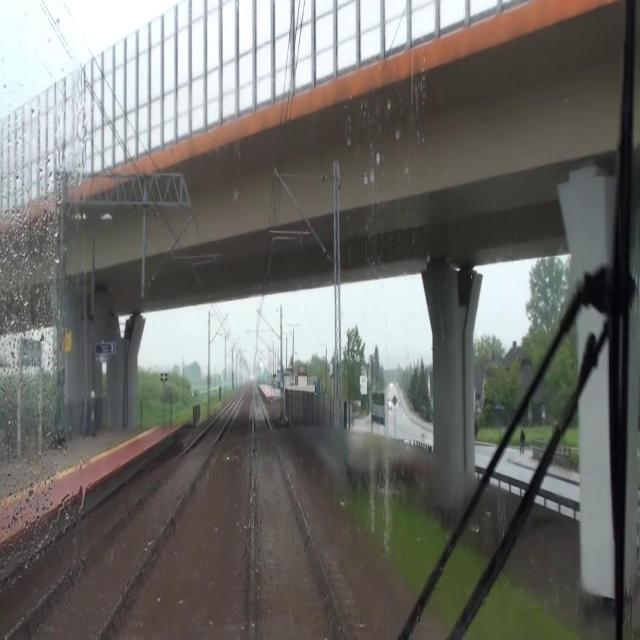rail-track: (12, 402, 236, 639), (254, 392, 345, 639)
